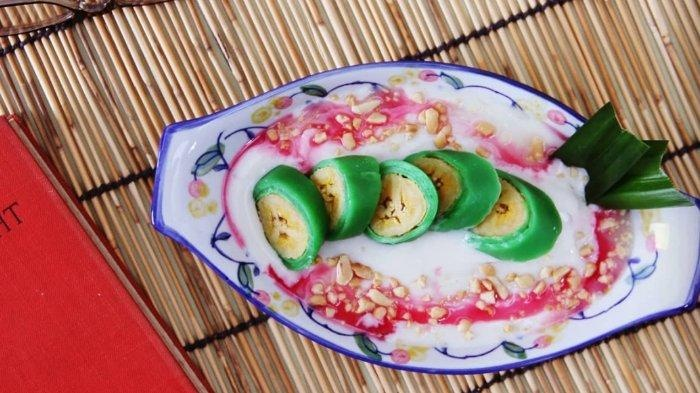pisang_ijo: (239, 170, 322, 275)
